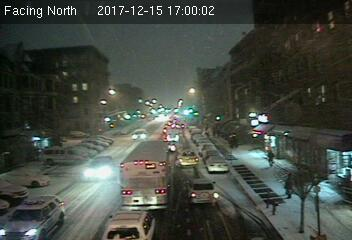bus: (119, 140, 173, 209)
car: (99, 210, 156, 240), (79, 155, 117, 183), (187, 179, 218, 207), (175, 149, 199, 166), (207, 156, 228, 173), (131, 128, 148, 141)
police: (1, 194, 67, 240)
